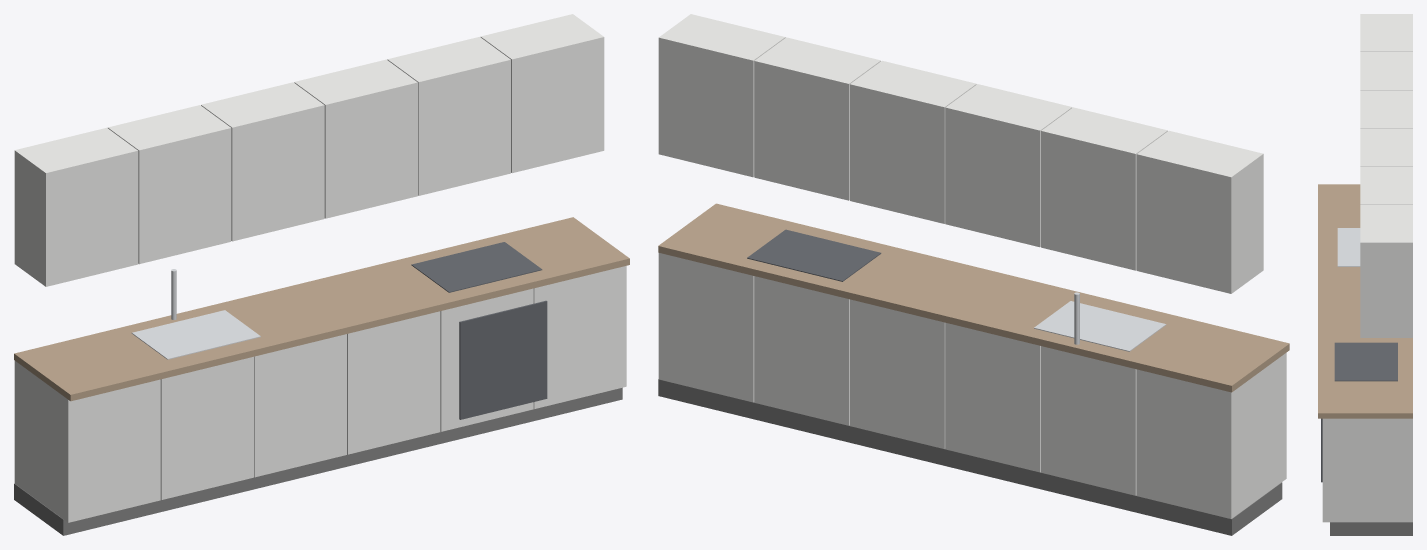
The model's file is kueche.glb.
The picture shows the model from 3 angles, left to right: view 1: azimuth 30°, elevation 25°; view 2: azimuth 150°, elevation 25°; view 3: azimuth 270°, elevation 25°; orthographic projection. The views are drawn at different scales.
Bounding box in the file's own units: 3.6 × 2.15 × 0.63.
